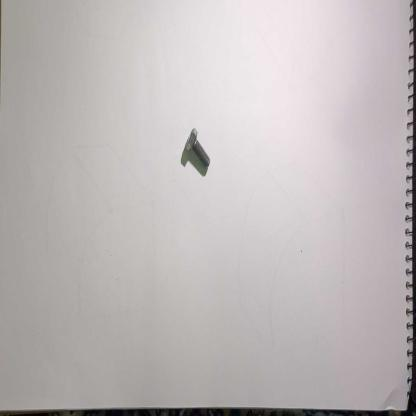Bolts: (184, 126, 214, 172)
